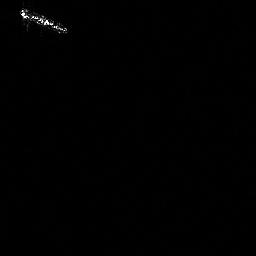ship: (16, 4, 72, 36)
